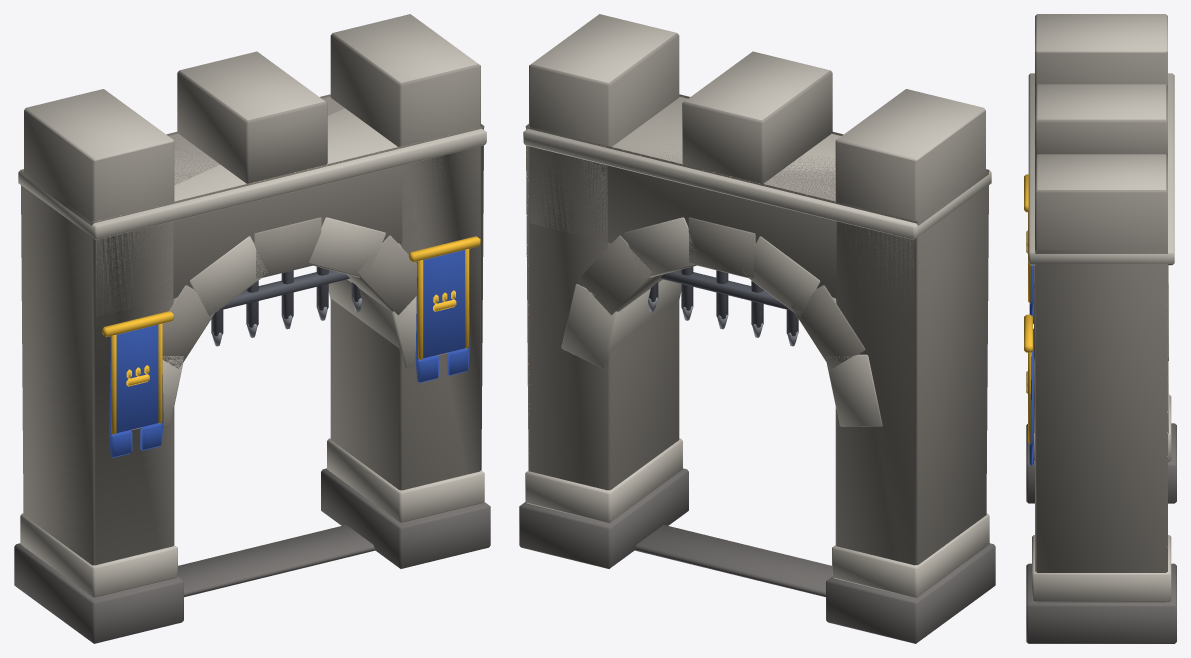
Rendered from B_MedGateOpen.fbx.
The picture shows the model from 3 angles, left to right: view 1: azimuth 30°, elevation 25°; view 2: azimuth 150°, elevation 25°; view 3: azimuth 270°, elevation 25°; orthographic projection. The views are drawn at different scales.
Parts seen in each view (by area): view 1: M_GateOpen; view 2: M_GateOpen; view 3: M_GateOpen.
Boxes of the visible parts, x1=… form: M_GateOpen: x1=14, y1=14, x2=490, y2=643; M_GateOpen: x1=519, y1=14, x2=995, y2=643; M_GateOpen: x1=1024, y1=14, x2=1176, y2=643.
Bounding box in the file's own units: 3.9 × 4.5 × 1.38.
Materials: 1 (1 with a texture image).
